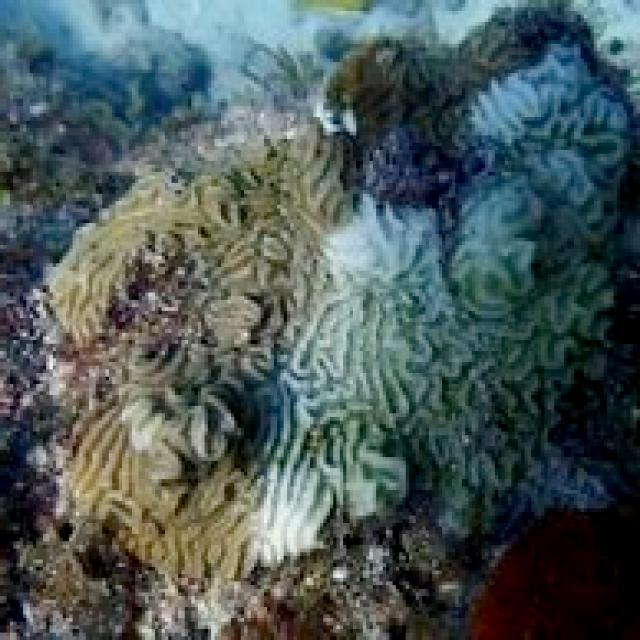Coral: (50, 0, 640, 594)
